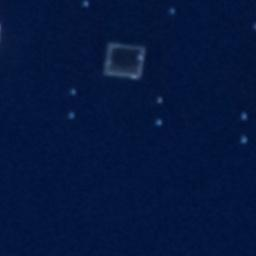square_cover: (99, 38, 150, 82)
